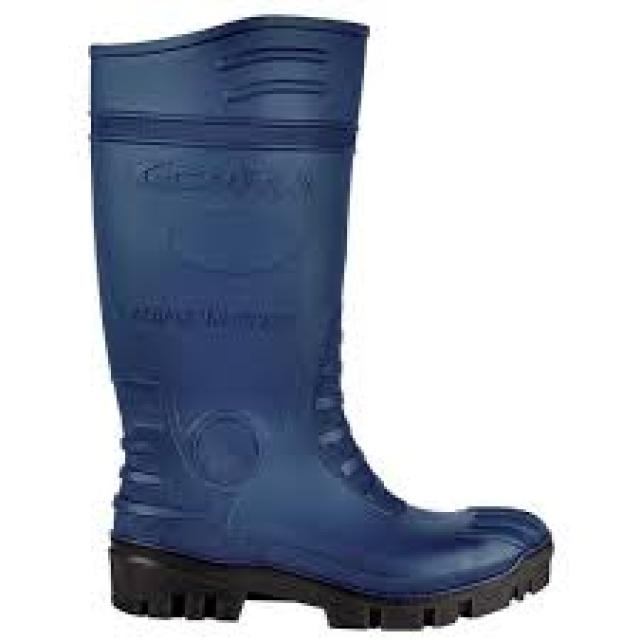shoes: (93, 16, 552, 628), (93, 16, 551, 628)
